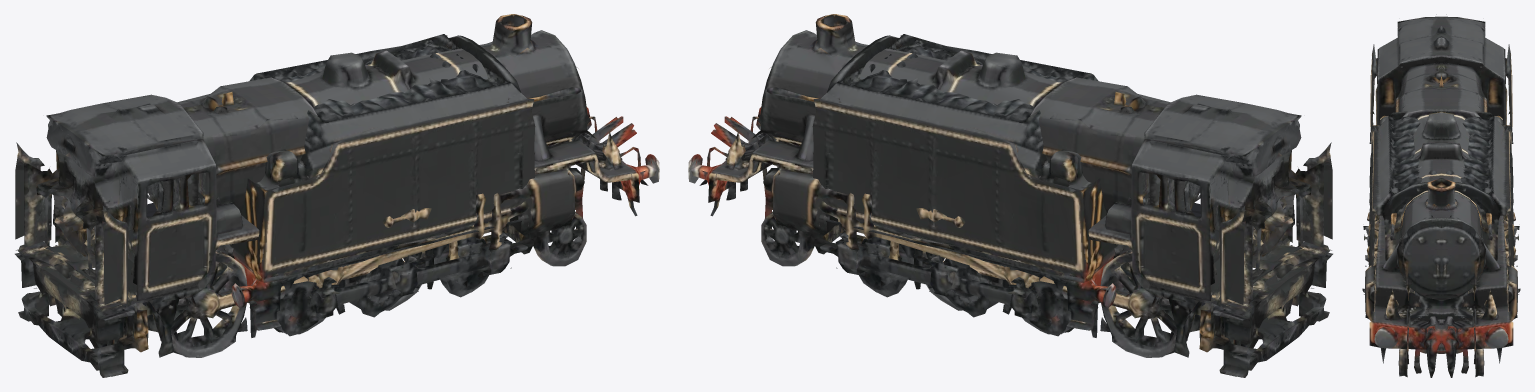
The model's file is black_five.glb.
The picture shows the model from 3 angles, left to right: view 1: azimuth 30°, elevation 25°; view 2: azimuth 150°, elevation 25°; view 3: azimuth 270°, elevation 25°; orthographic projection. The views are drawn at different scales.
Visible parts, largest first — view 1: engine, tender, engine.mirror, tender.mirror; view 2: engine.mirror, tender.mirror, engine, tender; view 3: engine, engine.mirror, tender, tender.mirror.
Boxes of the visible parts, <box> form: engine: <box>60,18,659,377</box>; tender: <box>229,47,535,337</box>; engine.mirror: <box>15,14,623,349</box>; tender.mirror: <box>249,34,481,82</box>; engine.mirror: <box>688,18,1287,377</box>; tender.mirror: <box>812,47,1118,337</box>; engine: <box>724,14,1332,349</box>; tender: <box>866,34,1098,82</box>; engine: <box>1365,14,1441,377</box>; engine.mirror: <box>1441,14,1517,377</box>; tender: <box>1362,111,1436,319</box>; tender.mirror: <box>1446,111,1520,319</box>.
Size of the model in its own units: 9.93 by 4.17 by 3.06.
1 material, 1 textured.
